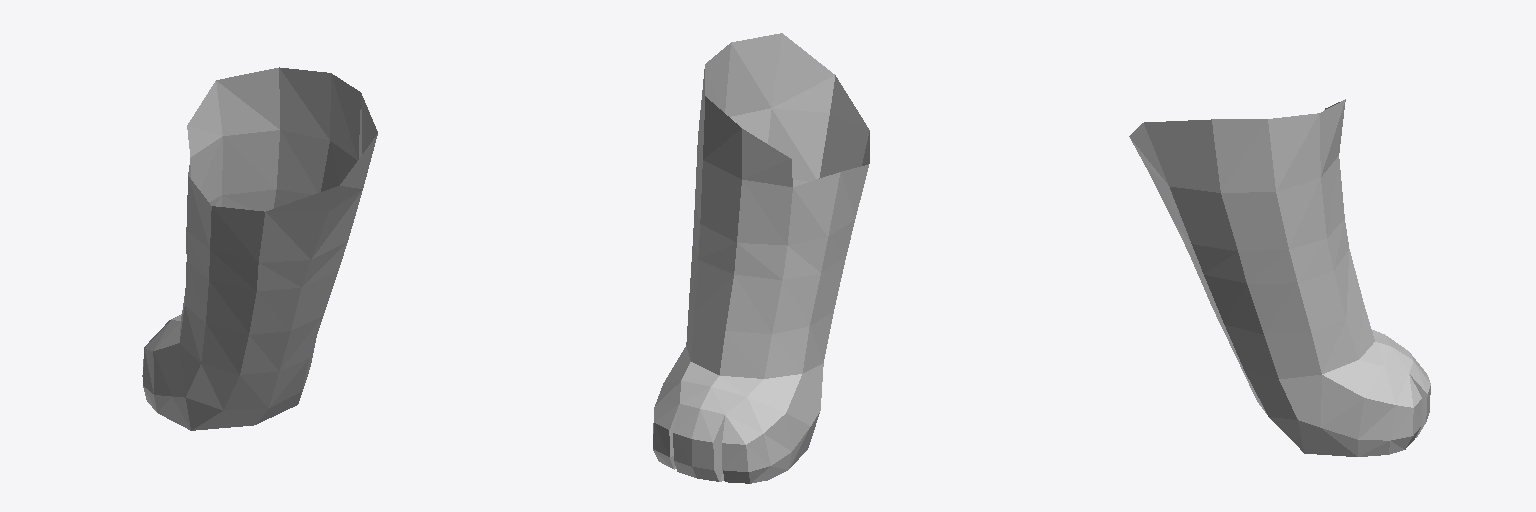
File: derDelanEevee.obj
The picture shows the model from 3 angles: view 1: azimuth 30°, elevation 25°; view 2: azimuth 150°, elevation 25°; view 3: azimuth 270°, elevation 25°; orthographic projection.
Visible parts, largest first — view 1: RArm, RForeArm, RHand, Spine1, derDelantera_Material__12.001; view 2: RArm, RForeArm, RHand, Spine1, derDelantera_Material__12.001; view 3: RArm, RForeArm, RHand, Spine1.
Part boxes in pixels (x1,y1,x2,y2): RArm: (187, 67, 377, 262); RForeArm: (180, 189, 347, 374); RHand: (142, 314, 316, 430); Spine1: (212, 134, 377, 262); derDelantera_Material__12.001: (186, 165, 211, 248); RArm: (695, 33, 869, 245); RForeArm: (686, 180, 854, 378); RHand: (653, 346, 823, 483); Spine1: (772, 33, 869, 165); derDelantera_Material__12.001: (793, 164, 868, 236); RArm: (1130, 99, 1345, 250); RForeArm: (1174, 219, 1374, 378); RHand: (1237, 330, 1430, 456); Spine1: (1129, 123, 1168, 185).
Size of the model in its own units: 4.57 by 10.26 by 8.2.